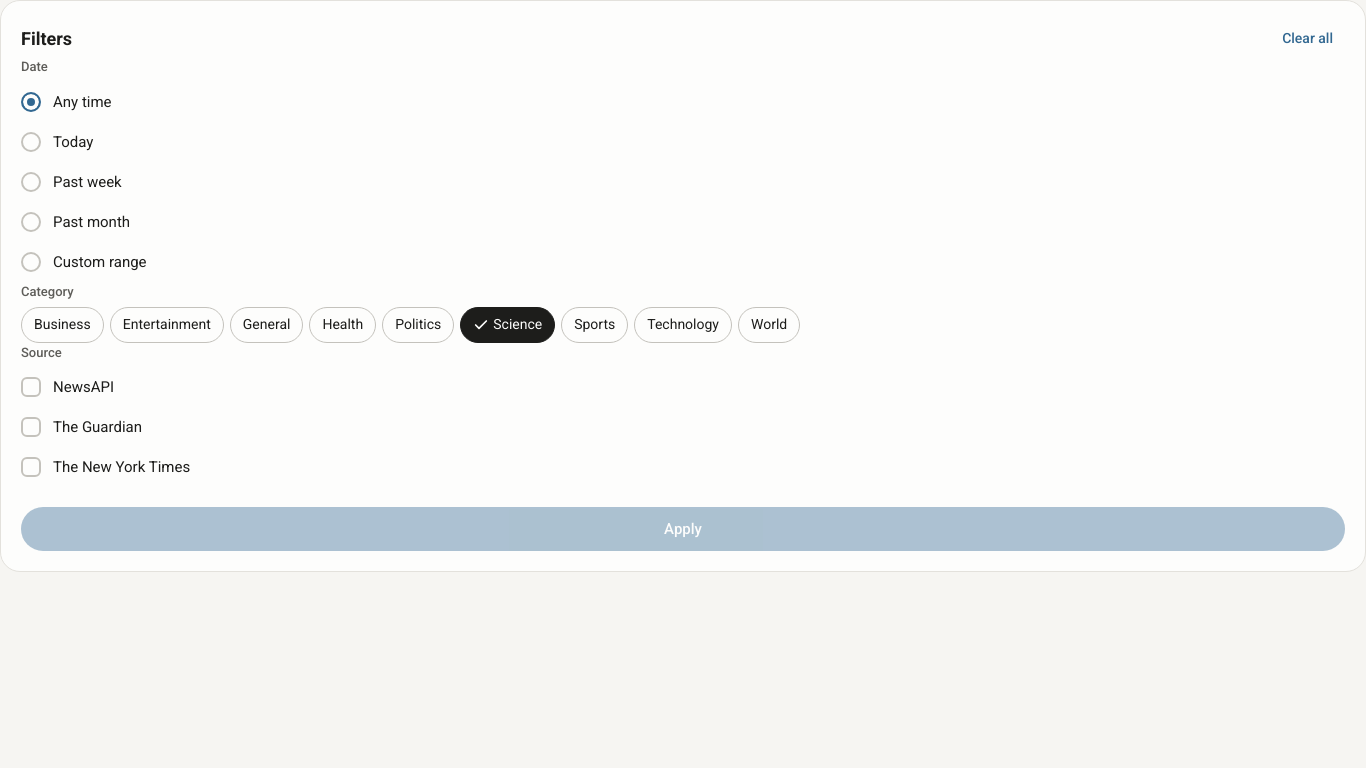
Scenario: FilterSidebar › Undo discards the draft
Step 1. Click the checkbox labelled "The Guardian" → [82, 427], box top-left (21, 417), bottom-right (142, 437)
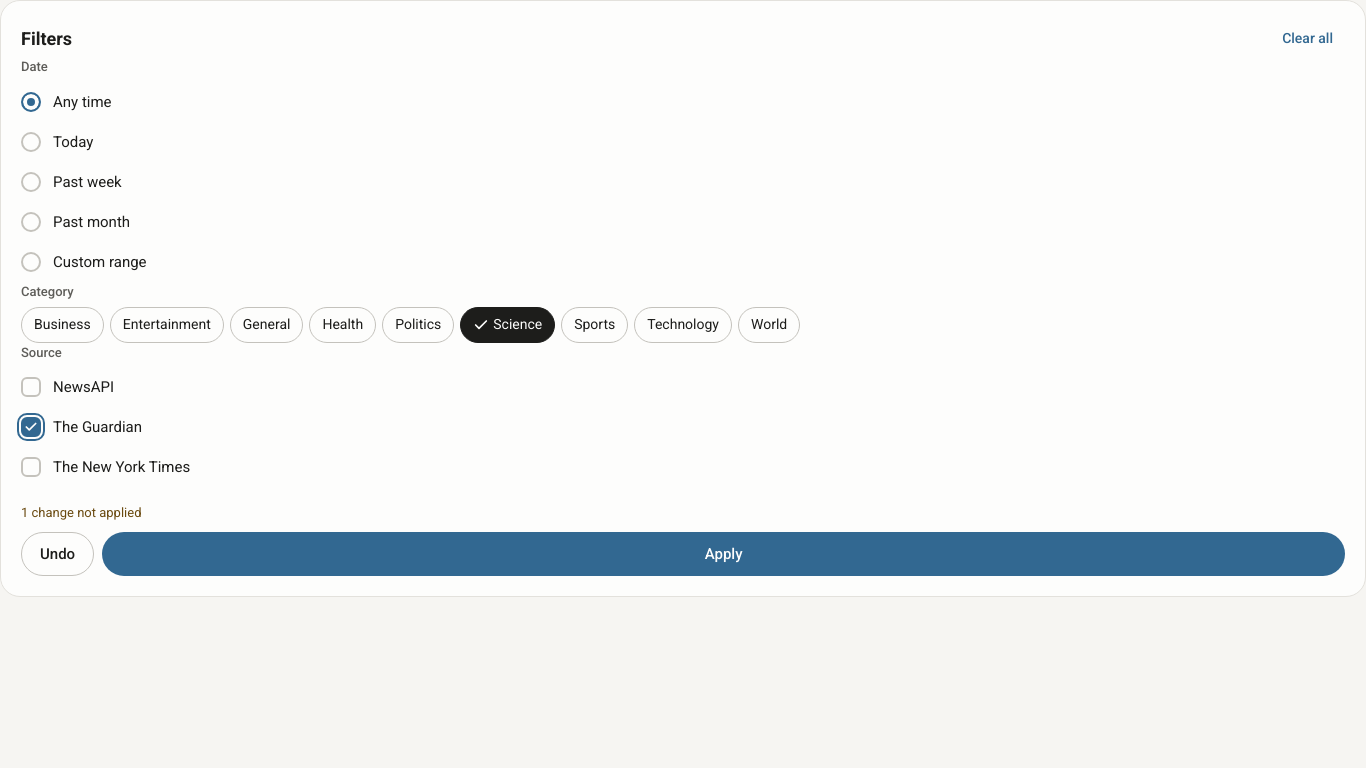
Step 2. Click the button "Undo" → [58, 554], box top-left (21, 532), bottom-right (94, 576)
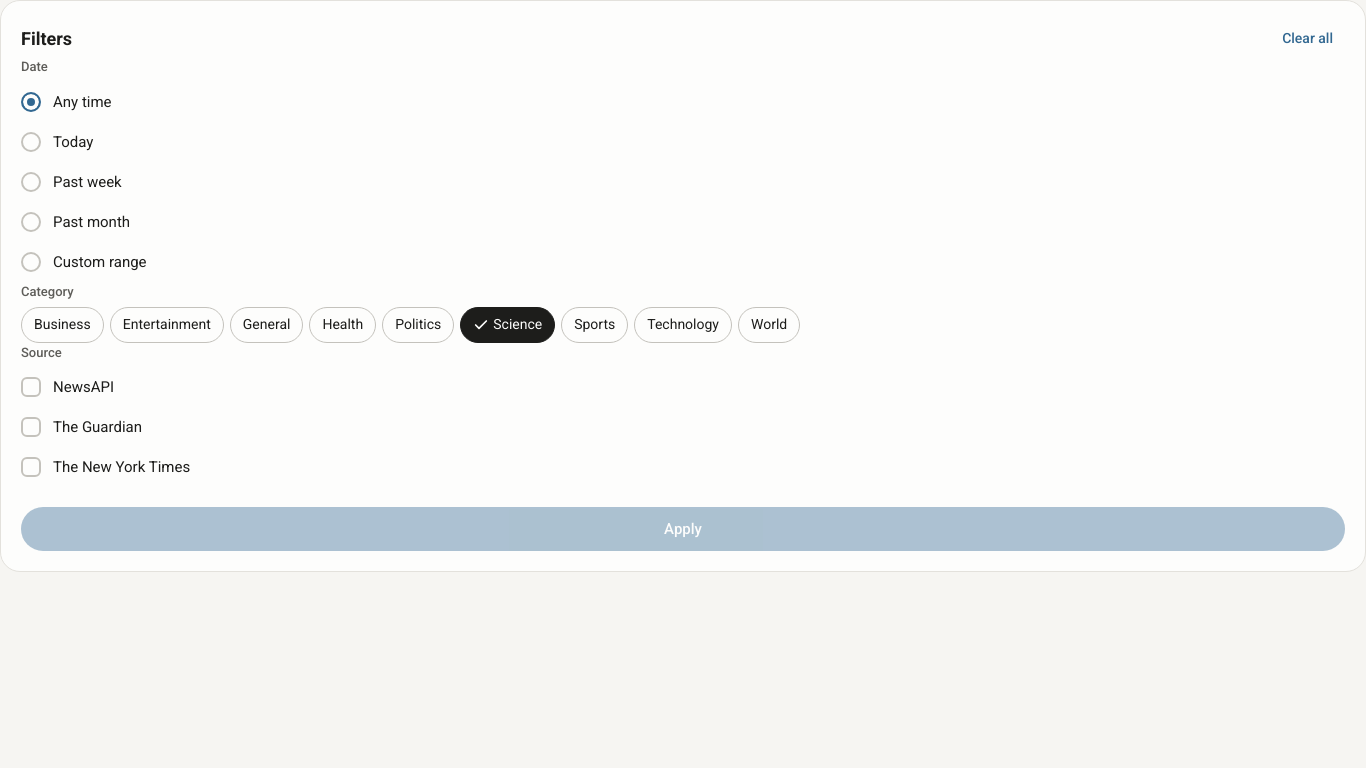
Expected: the checkbox labelled "The Guardian" is not checked, top-left (21, 417), bottom-right (142, 437)
Expected: the text "not applied" is gone
